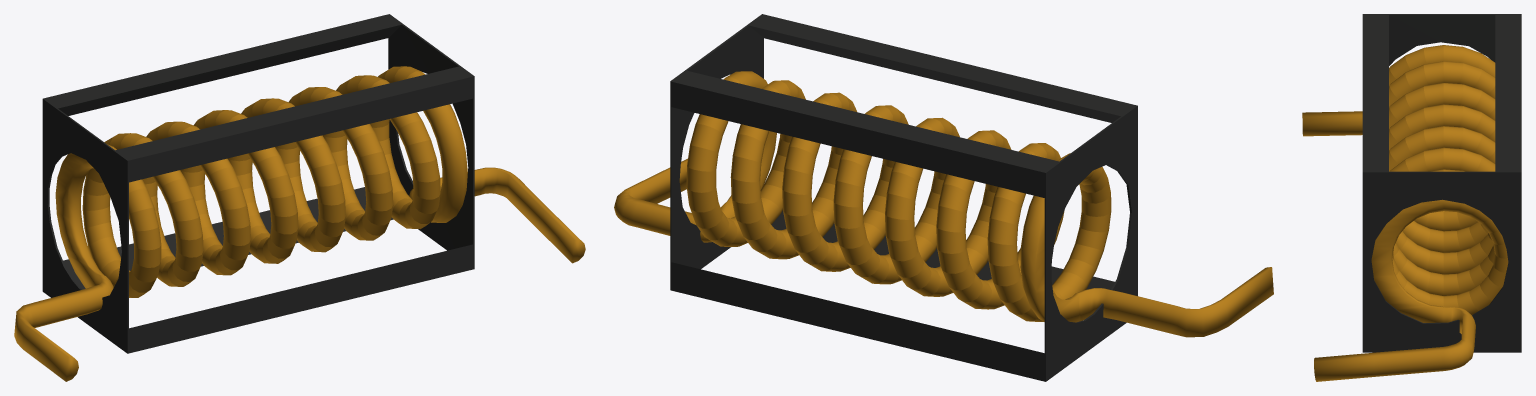
File: Inductor-Upgrade2.fbx
3 views of the same model, side by side, from view 1: azimuth 30°, elevation 25°; view 2: azimuth 150°, elevation 25°; view 3: azimuth 270°, elevation 25° (orthographic). The views are drawn at different scales.
Visible parts, largest first — view 1: Capicitor3; view 2: Capicitor3; view 3: Capicitor3.
Boxes of the visible parts, <box> form: Capicitor3: <box>14,14,585,381</box>; Capicitor3: <box>614,14,1273,381</box>; Capicitor3: <box>1302,14,1521,381</box>.
Bounding box in the file's own units: 199 × 69.18 × 76.25.
